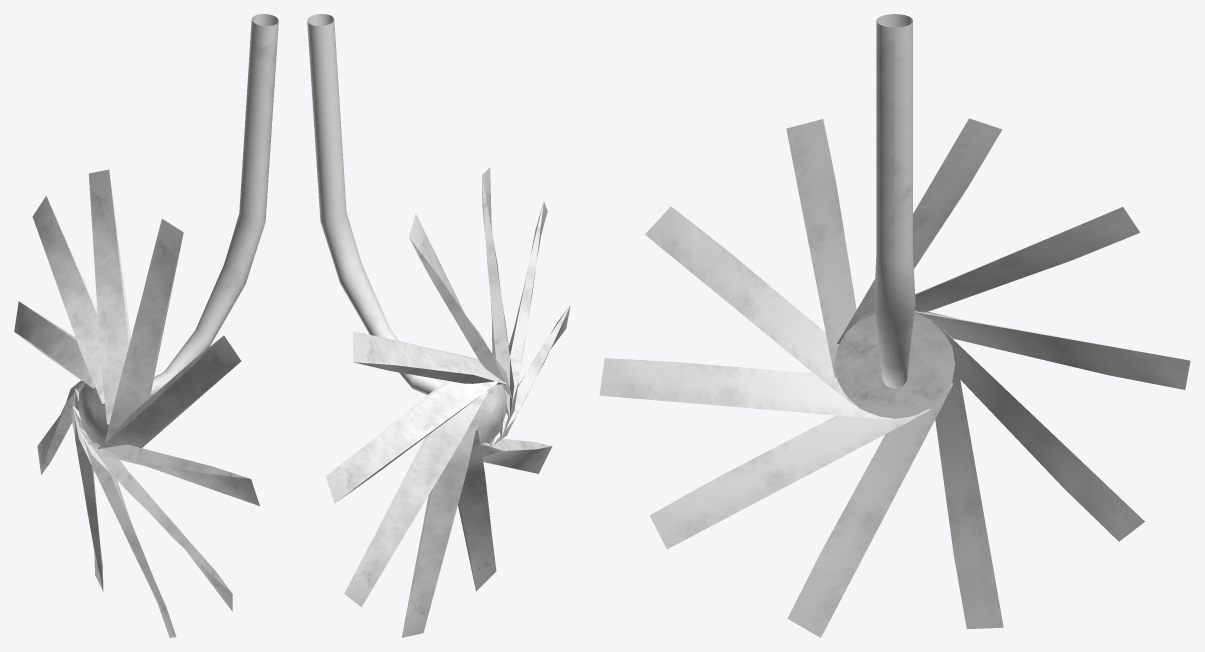
File: turbine.fbx
3 renders of one model, left to right at view 1: azimuth 30°, elevation 25°; view 2: azimuth 150°, elevation 25°; view 3: azimuth 270°, elevation 25°, orthographic. The views are drawn at different scales.
Parts seen in each view (by area): view 1: MASH1_ReproMesh1, base, pCylinder1; view 2: MASH1_ReproMesh1, base, pCylinder1; view 3: MASH1_ReproMesh1, base, pCylinder1.
Part boxes in pixels (left/top/right/bottom): MASH1_ReproMesh1: left=14, top=169, right=259, bottom=637; base: left=150, top=14, right=278, bottom=397; pCylinder1: left=78, top=383, right=108, bottom=444; MASH1_ReproMesh1: left=326, top=167, right=570, bottom=637; base: left=307, top=14, right=443, bottom=394; pCylinder1: left=476, top=384, right=506, bottom=443; MASH1_ReproMesh1: left=599, top=118, right=1190, bottom=637; base: left=874, top=14, right=915, bottom=388; pCylinder1: left=834, top=313, right=955, bottom=418.
Bounding box in the file's own units: 1.52 × 4.31 × 3.34.
Materials: 1 (1 with a texture image).
